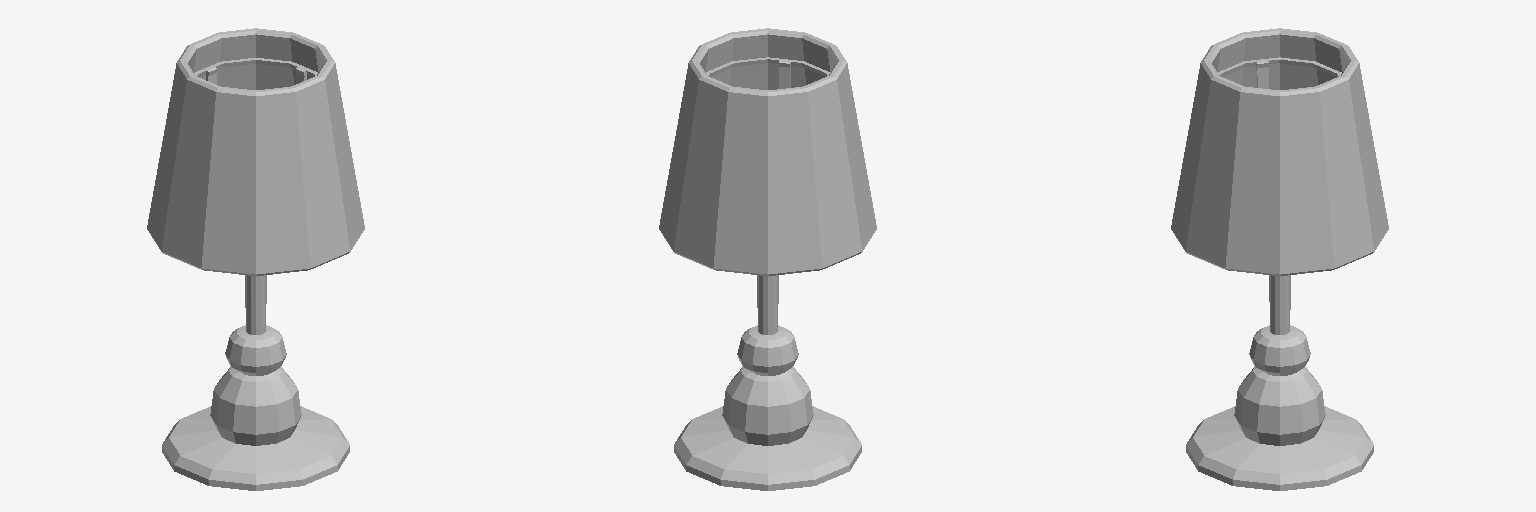
File: lamp_export.obj
The picture shows the model from 3 angles: view 1: azimuth 30°, elevation 25°; view 2: azimuth 150°, elevation 25°; view 3: azimuth 270°, elevation 25°; orthographic projection.
Parts seen in each view (by area): view 1: lamp1; view 2: lamp1; view 3: lamp1.
Boxes of the visible parts, x1,y1,x2,y2 form: lamp1: [147, 28, 364, 490]; lamp1: [659, 28, 876, 490]; lamp1: [1171, 28, 1388, 490].
Size of the model in its own units: 0.5645 by 1.12 by 0.5645.